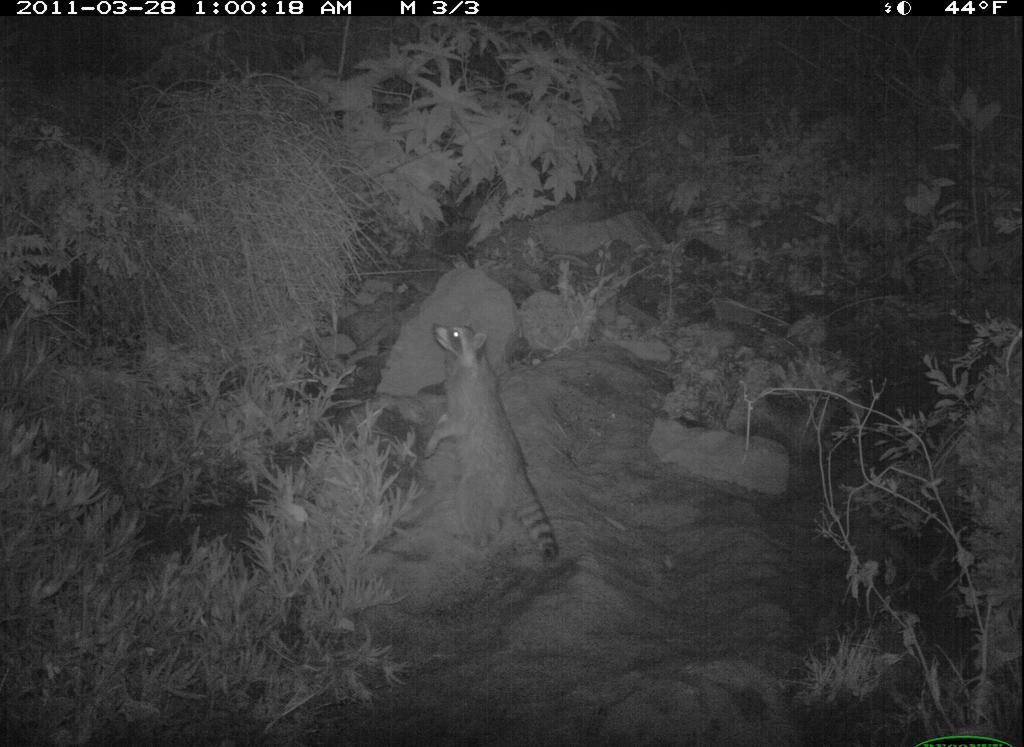raccoon: (411, 318, 571, 571)
